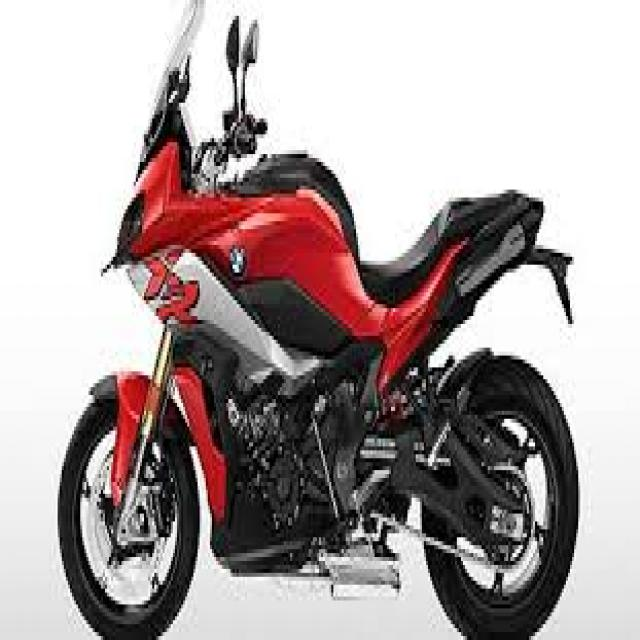Bike: (56, 3, 581, 640)
